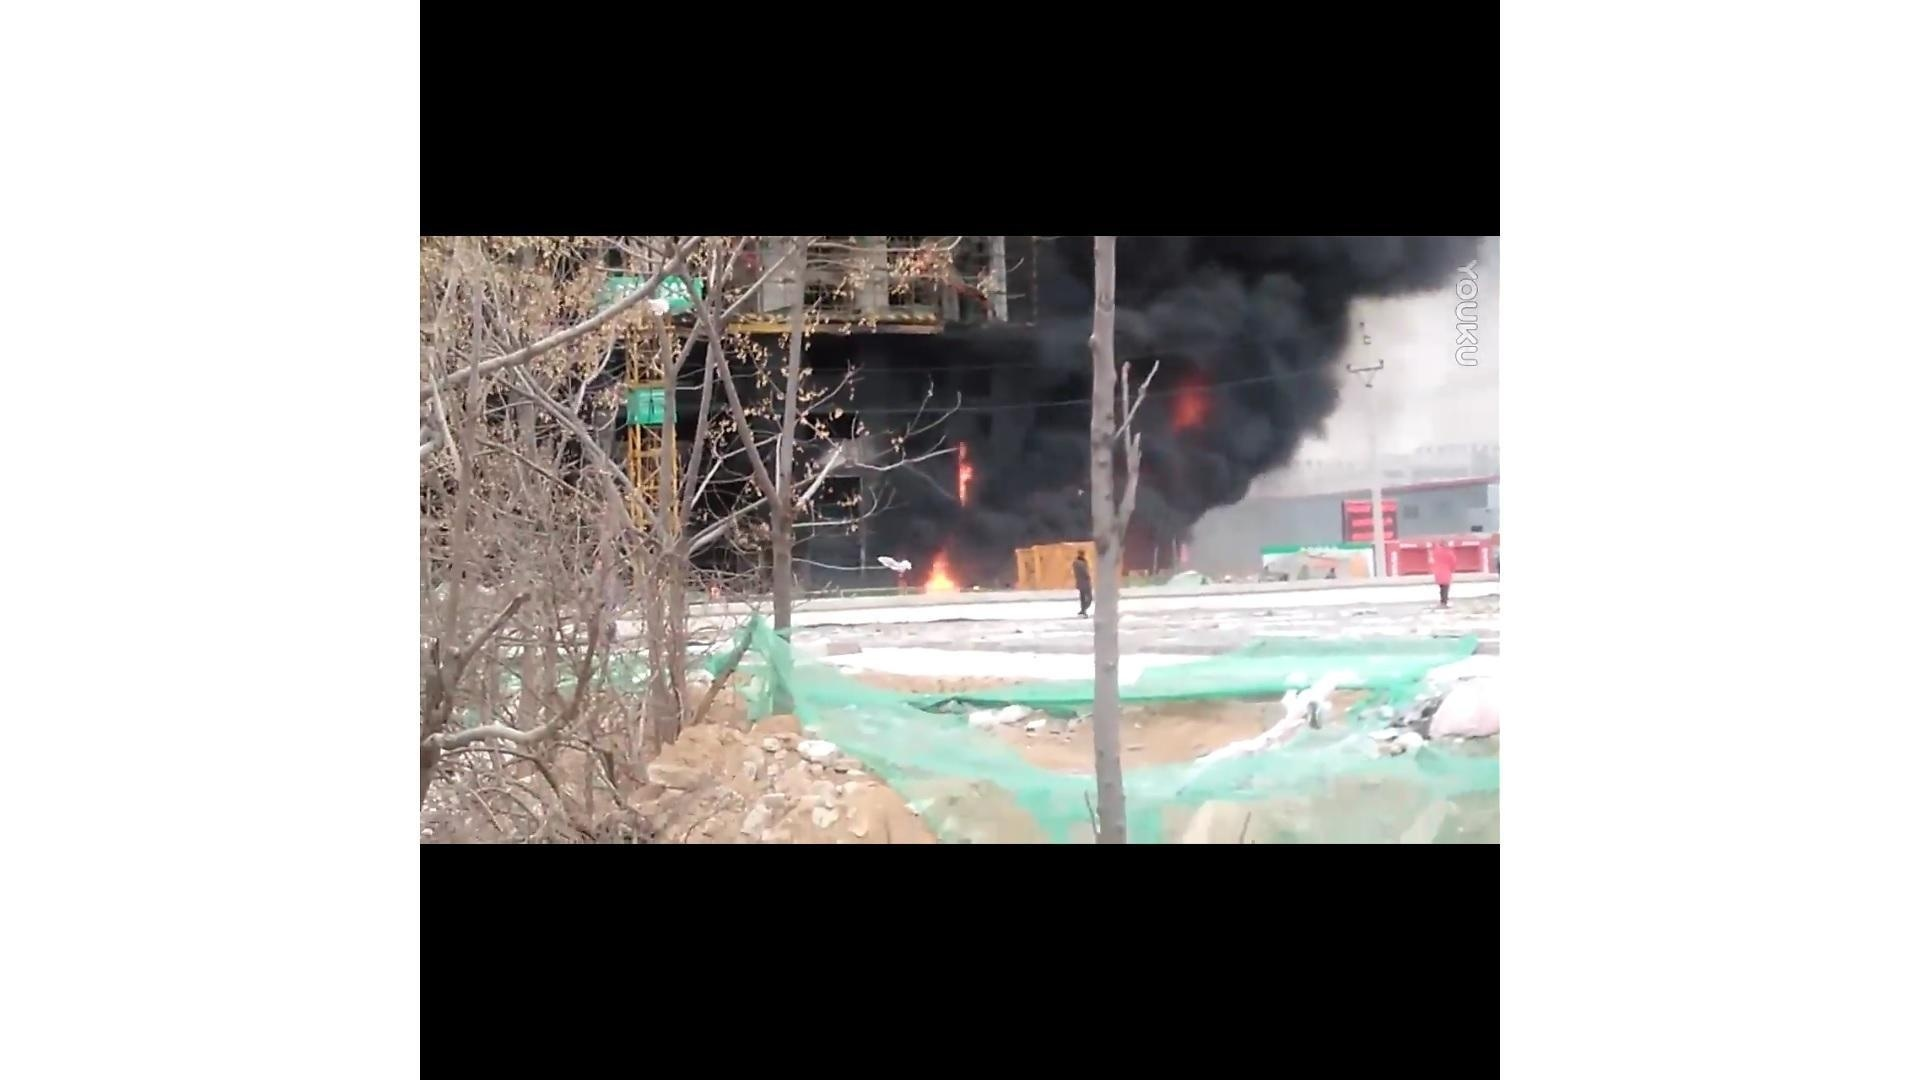fire: (918, 553, 965, 599)
